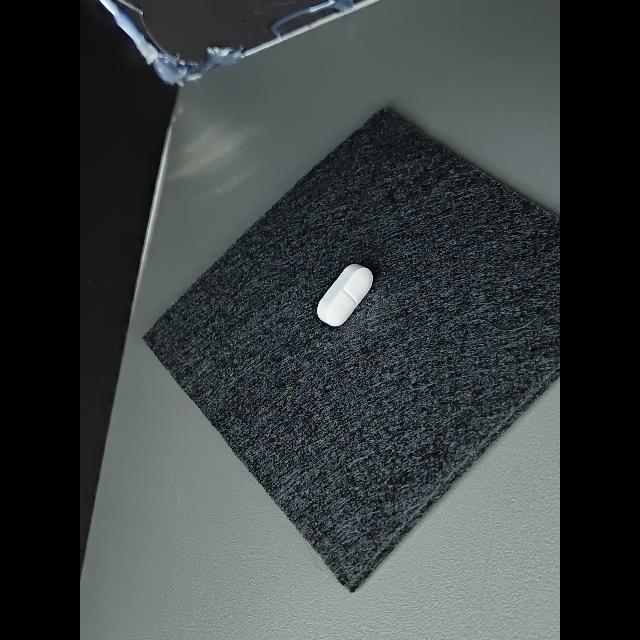Intact Pill: (317, 264, 373, 326)
